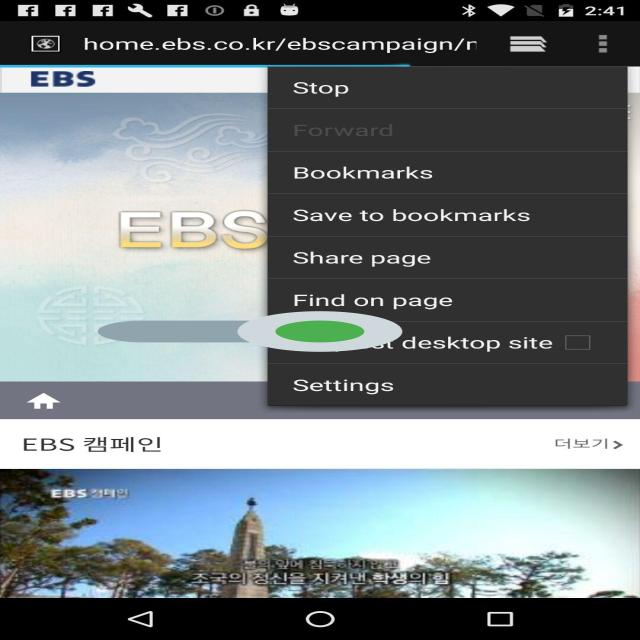social proof: (98, 294, 402, 369)
